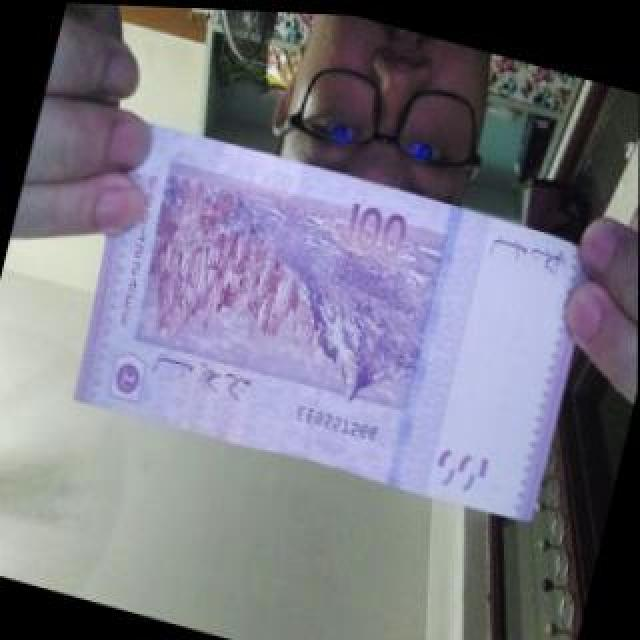100 Ringgit: (60, 112, 604, 529)
